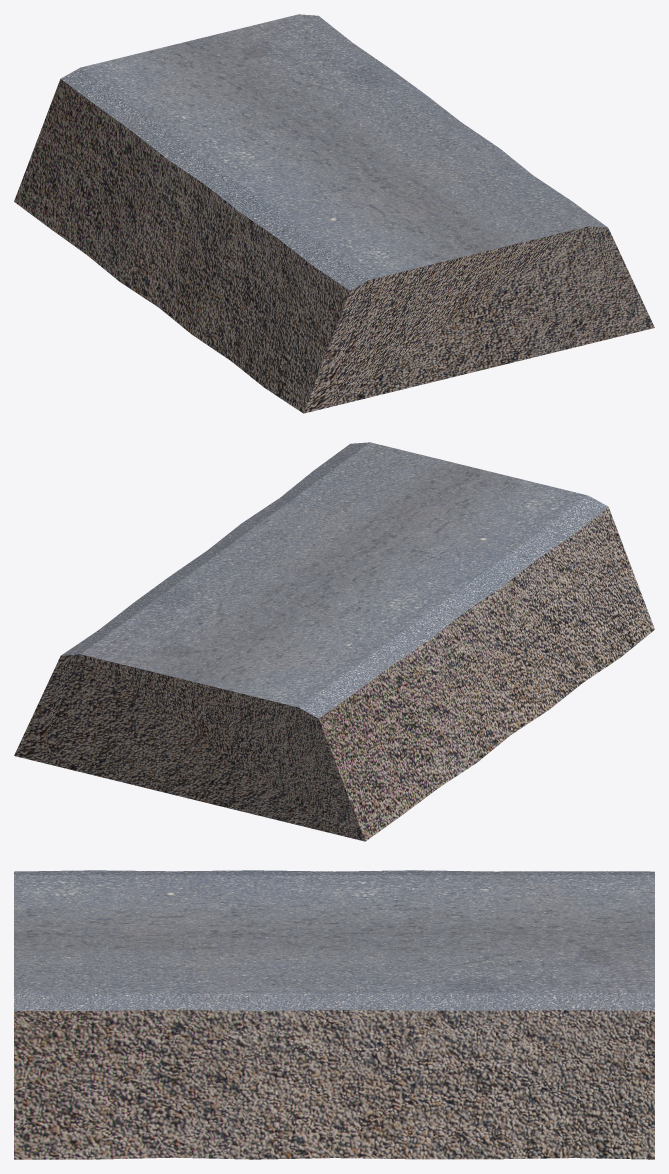
File: rural_road.obj
3 views of the same model, one above another, from view 1: azimuth 30°, elevation 25°; view 2: azimuth 150°, elevation 25°; view 3: azimuth 270°, elevation 25° (orthographic). The views are drawn at different scales.
Visible parts, largest first — view 1: rural_road; view 2: rural_road; view 3: rural_road.
Boxes of the visible parts, <box> form: rural_road: <box>14,14,654,413</box>; rural_road: <box>14,442,654,841</box>; rural_road: <box>14,870,654,1159</box>.
Bounding box in the file's own units: 4.92 × 1.56 × 6.97.
